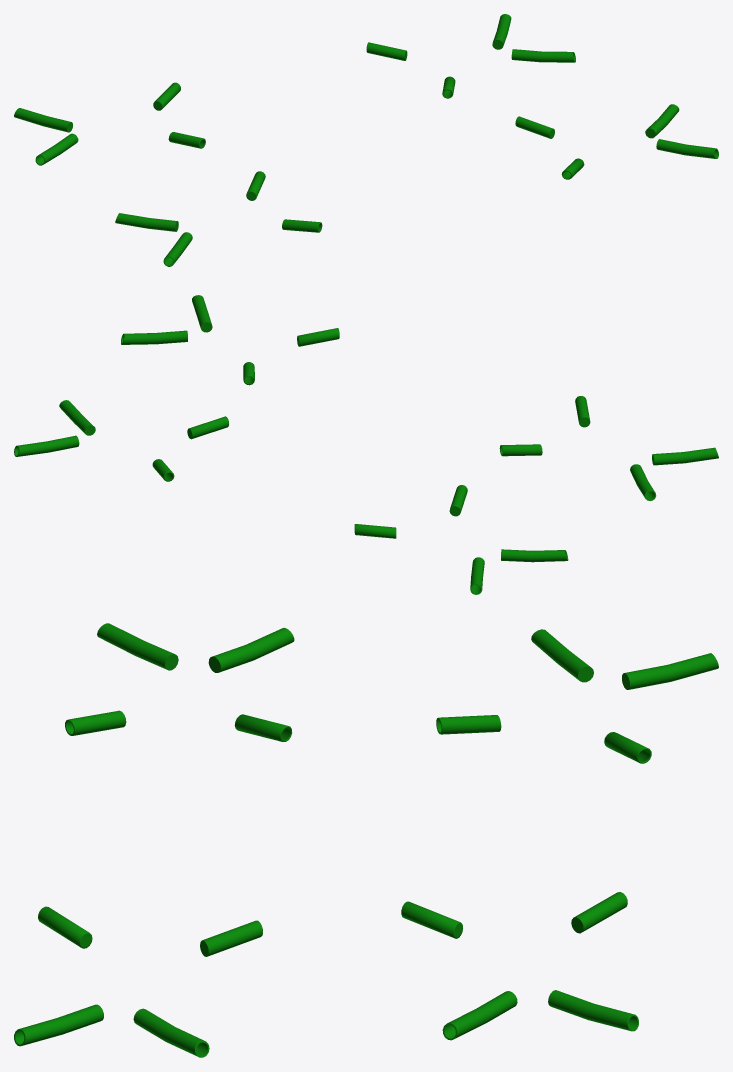
Rendered from ConnectLegs.FBX.
3 renders of one model, top to bottom at view 1: azimuth 30°, elevation 25°; view 2: azimuth 150°, elevation 25°; view 3: azimuth 270°, elevation 25°, orthographic. The views are drawn at different scales.
Visible parts, largest first — view 1: Encaixe pernas; view 2: Encaixe pernas; view 3: Encaixe pernas.
Boxes of the visible parts, x1=… form: Encaixe pernas: x1=14, y1=14, x2=718, y2=266; Encaixe pernas: x1=14, y1=295, x2=718, y2=594; Encaixe pernas: x1=14, y1=623, x2=718, y2=1057.
Size of the model in its own units: 1.29 by 0.0424 by 0.9037.
